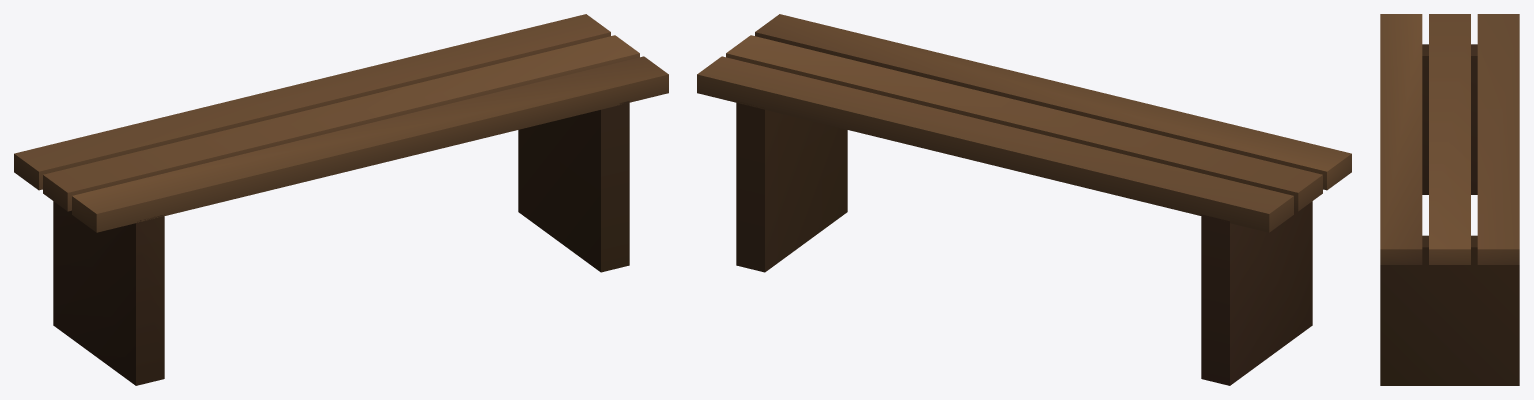
File: bench.glb
3 views of the same model, side by side, from view 1: azimuth 30°, elevation 25°; view 2: azimuth 150°, elevation 25°; view 3: azimuth 270°, elevation 25° (orthographic). The views are drawn at different scales.
Parts seen in each view (by area): view 1: bench; view 2: bench; view 3: bench.
Part boxes in pixels (<box>): bench: <box>14,14,668,385</box>; bench: <box>697,14,1351,385</box>; bench: <box>1380,14,1519,385</box>.
Bounding box in the file's own units: 1.6 × 0.485 × 0.4.
